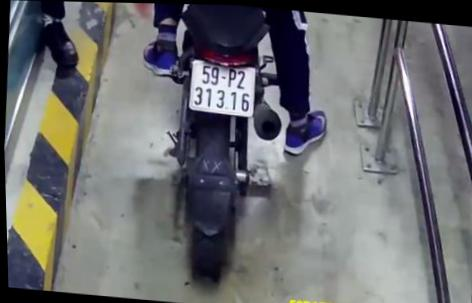LP: (186, 54, 257, 117)
